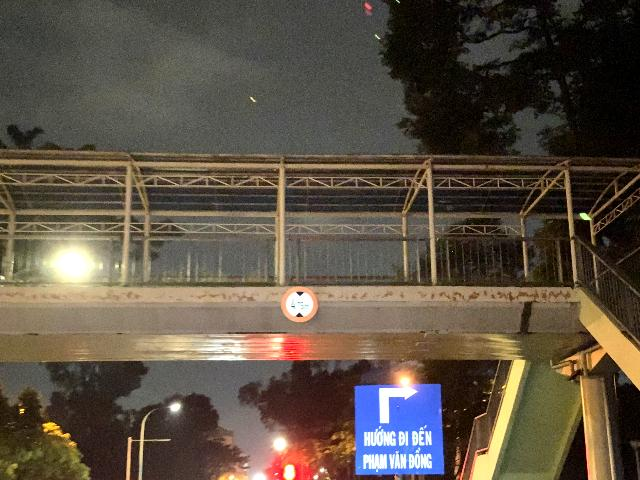han-che-chieu-cao: (281, 286, 318, 322)
